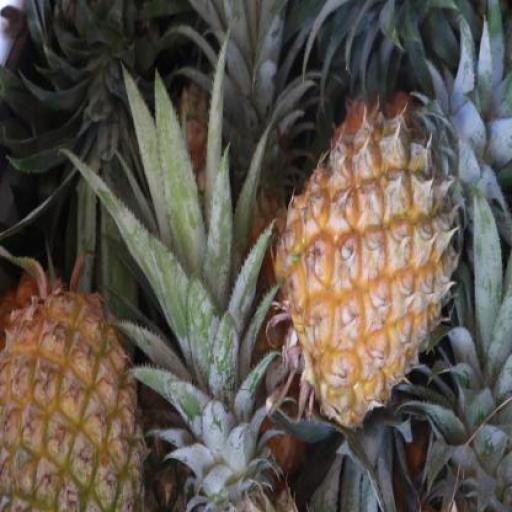------------------------------: (0, 284, 154, 511)
Pineapple - v8 v1: (277, 104, 479, 424)
